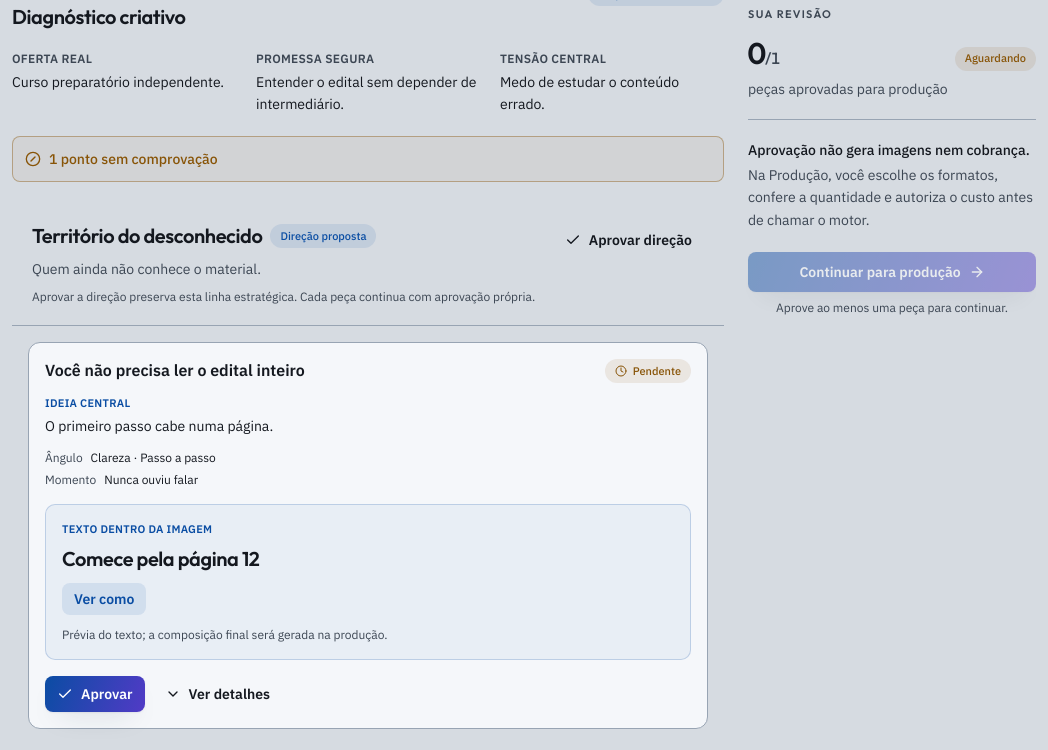
Test: aprovar endereça por ref, nunca por posição › mostra a ideia central antes da arte e detalha pergunta, entrega e cena sem alterar aprovação
Expected: the text "Por onde começo sem me perder?" is not shown
Click the button "Ver detalhes" at (217, 694), box [153,676,282,712]
(page scrolled)
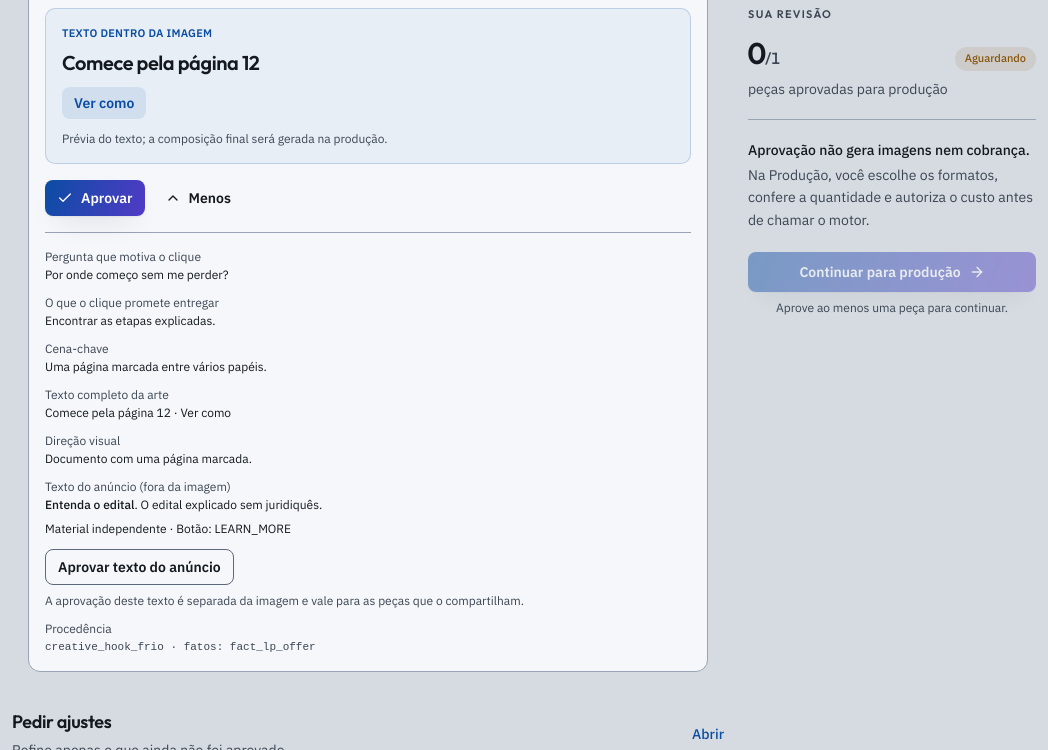
Now the text "Por onde começo sem me perder?" is shown, box [45,266,228,282]
Now the text "Encontrar as etapas explicadas." is shown, box [45,312,216,328]
Now the text "Uma página marcada entre vários papéis." is shown, box [45,358,267,374]
